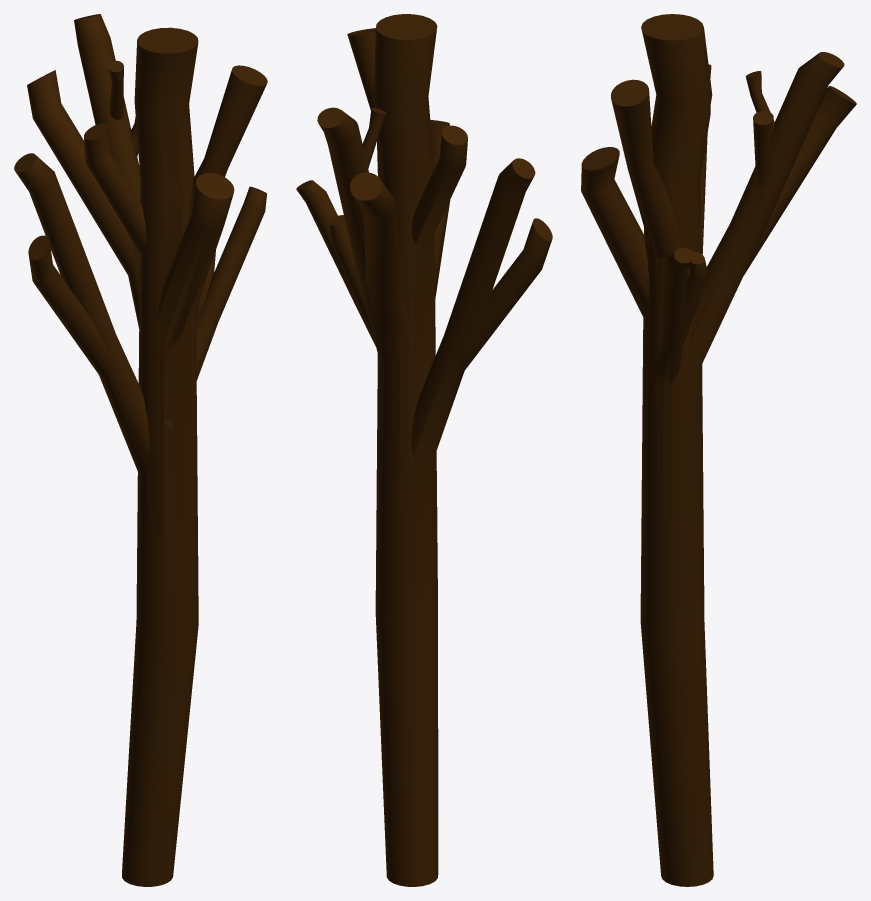
The model's file is 48_stick2.fbx.
3 renders of one model, left to right at view 1: azimuth 30°, elevation 25°; view 2: azimuth 150°, elevation 25°; view 3: azimuth 270°, elevation 25°, orthographic. The views are drawn at different scales.
Parts seen in each view (by area): view 1: pCylinder169; view 2: pCylinder169; view 3: pCylinder169.
Part boxes in pixels (x1,y1,x2,y2): pCylinder169: (14,14,267,886); pCylinder169: (296,14,552,886); pCylinder169: (581,14,856,886).
Size of the model in its own units: 0.5463 by 1.79 by 0.5243.
